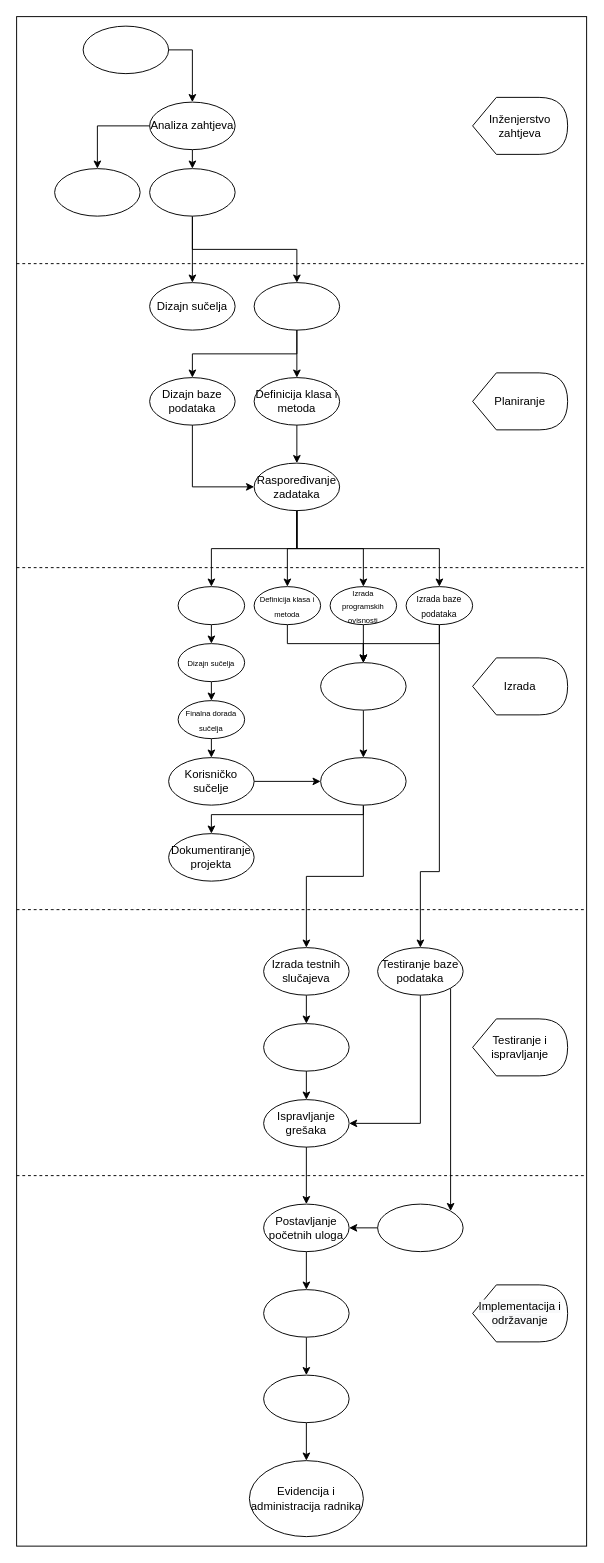
This 604x1563 diagram has some shape labels left out. Here are the shapes that lost their labels. From the top down, the centre of each, then its label:
the point at 125,49: Dobavljanje zahtjeva
the point at 97,192: Dokumentacija zahtjeva
the point at 192,192: Verifikacija i validacija zahtjeva
the point at 296,306: Određivanje mogućnosti korisnika
the point at 211,605: Izrada osnovnog sučelja
the point at 363,686: Izrada osnovnih zahtjeva
the point at 363,781: Implementacija
the point at 306,1047: Traženje rubnih slučajeva
the point at 420,1227: Postavljanje zavisnosti (databaza)
the point at 306,1313: Edukacija korištenja sustava
the point at 306,1398: Održavalje i pružanje podrške
